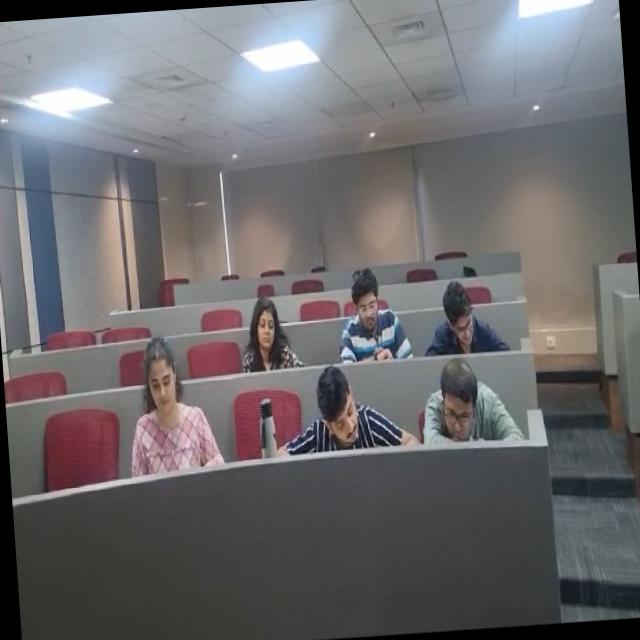cheating: (416, 365, 494, 452)
non-cheating: (126, 338, 196, 473), (294, 368, 388, 454), (338, 278, 400, 360), (432, 275, 490, 355), (242, 286, 296, 366)
